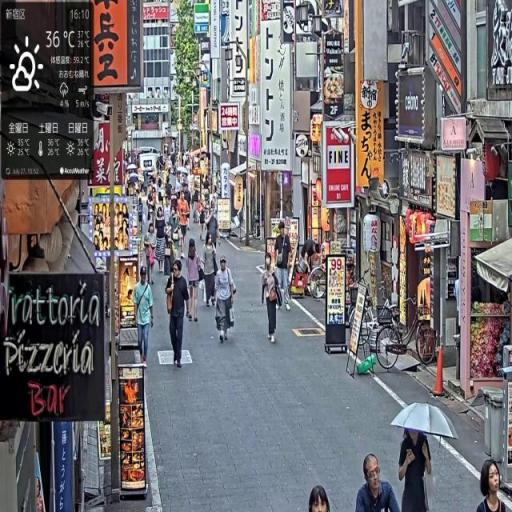person: (399, 428, 434, 512), (167, 260, 192, 375), (355, 454, 402, 512), (134, 267, 155, 368), (215, 257, 237, 344), (262, 255, 283, 346), (273, 222, 294, 311), (479, 459, 512, 512), (186, 240, 204, 325), (201, 235, 219, 310)
